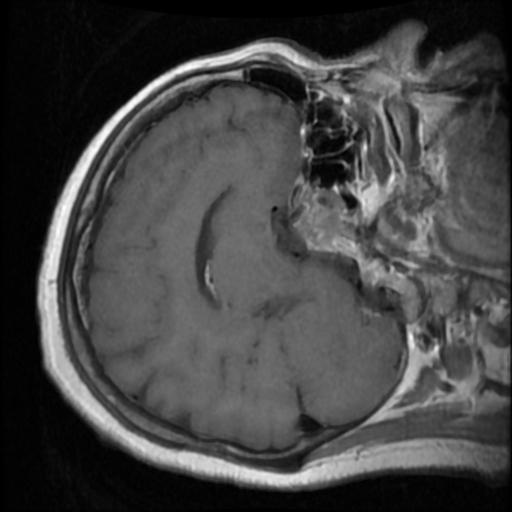pituitary tumour: (286, 176, 359, 257)
